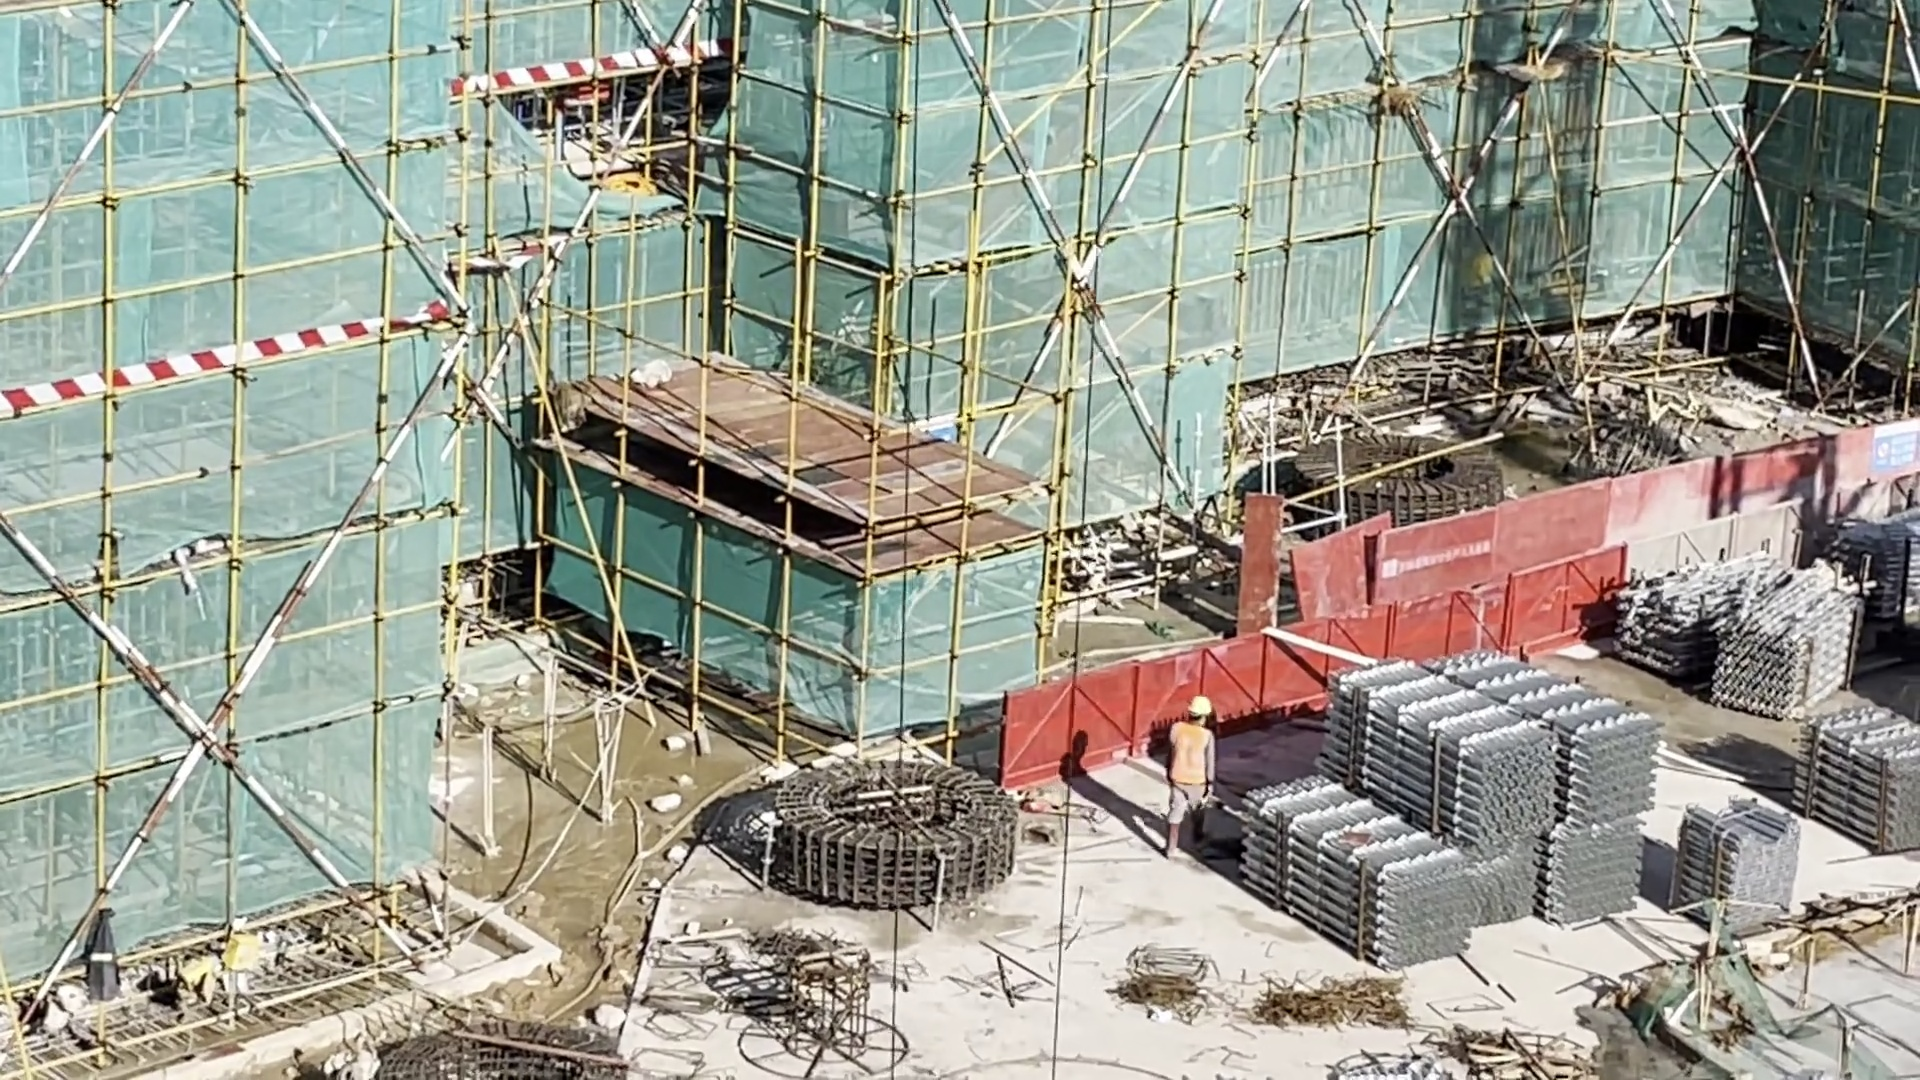fence: (1003, 471, 1920, 785)
helmet: (1181, 681, 1214, 718)
person: (1165, 703, 1223, 854)
scaffold: (1239, 644, 1665, 968), (1615, 550, 1866, 711), (1804, 706, 1919, 850), (1677, 799, 1793, 934)
vest: (1166, 716, 1215, 786)
